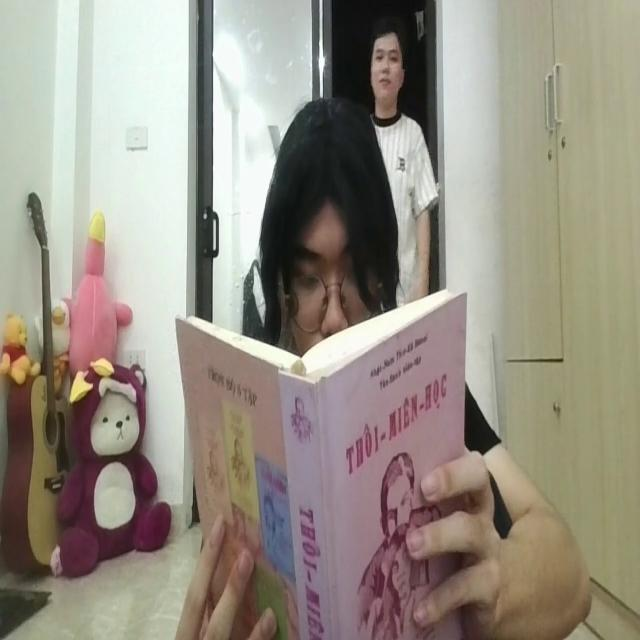book: (170, 282, 470, 640)
extra_person: (371, 20, 439, 304)
student: (258, 100, 397, 342)
